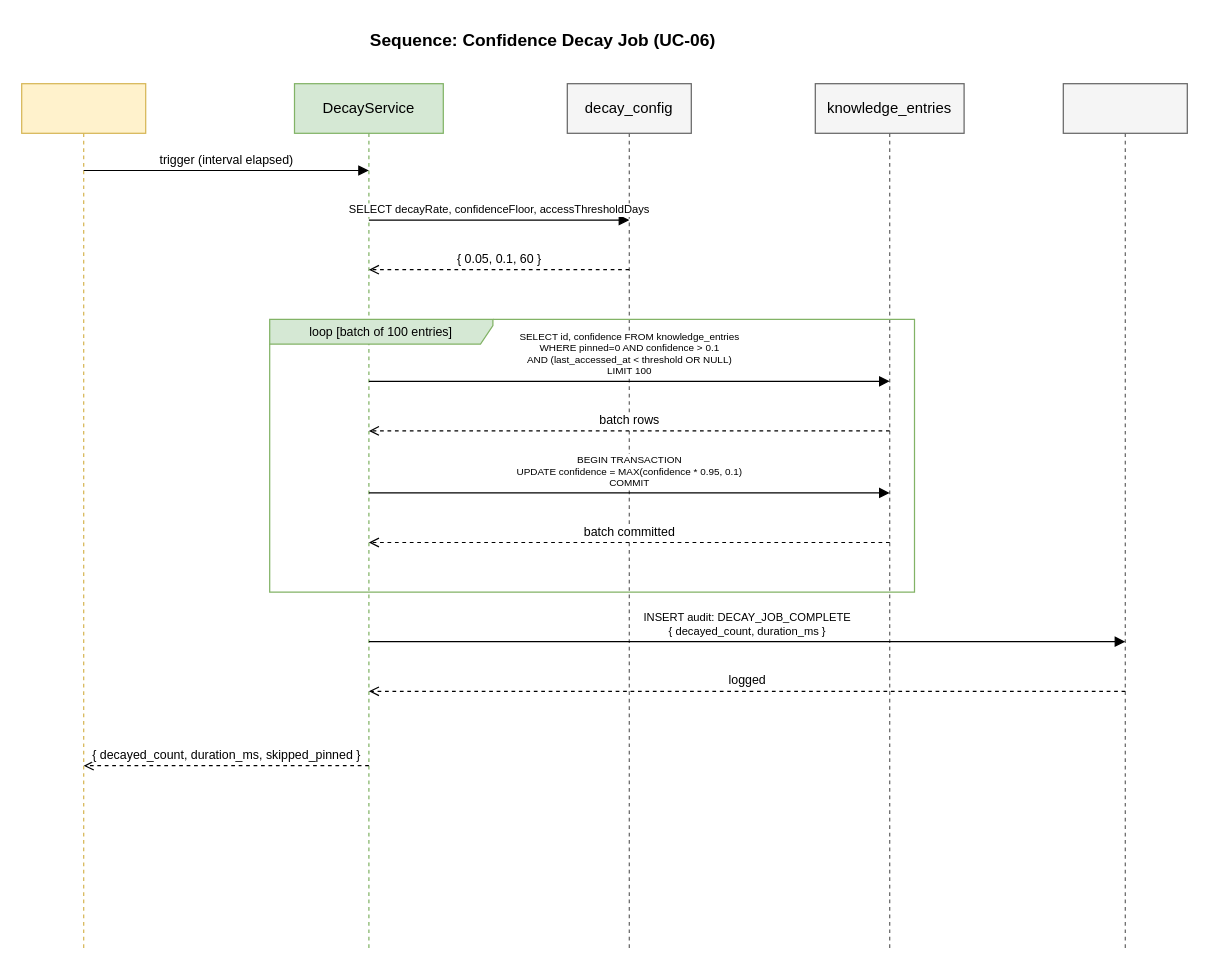
This 1209x973 diagram has some shape labels left out. Here are the shapes that lost their labels. From the top down, the box of each, then its label:
(20, 82, 146, 952): Scheduler
(1062, 82, 1187, 952): memory_audit
